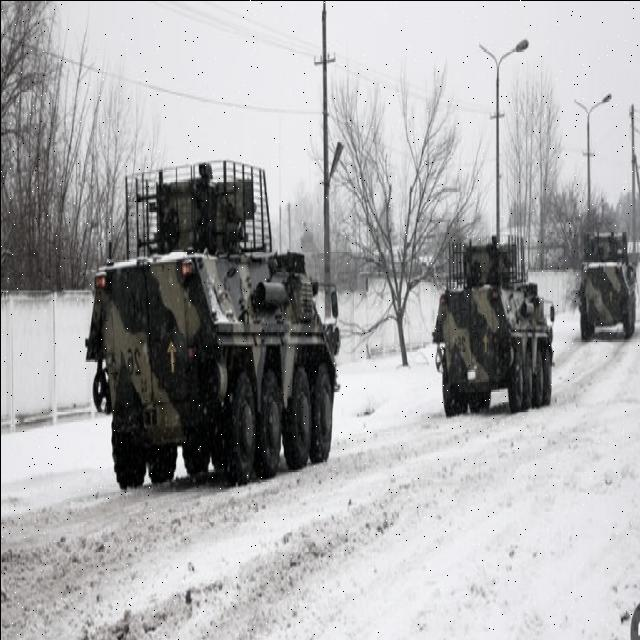APC-IFV: (86, 154, 340, 496), (438, 230, 558, 417), (577, 226, 639, 340)
